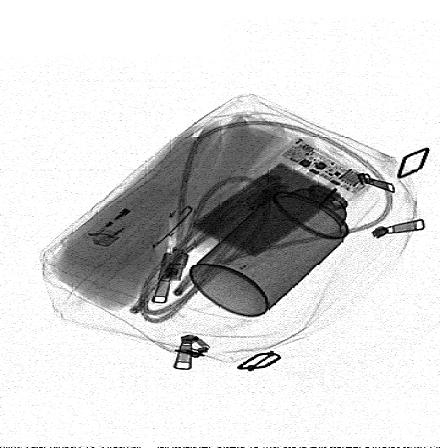Lighter: (84, 181, 173, 248)
Powerbank: (168, 137, 375, 273)
Sprayer: (190, 160, 379, 319)
